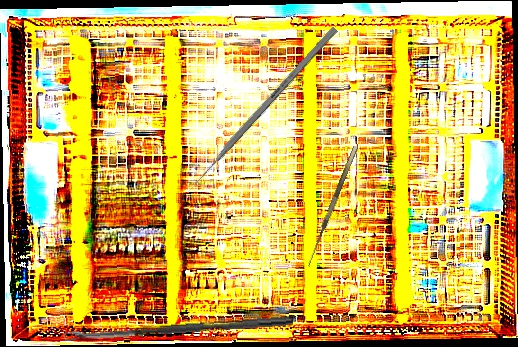Hook Surgical: (305, 145, 365, 270)
Pusher: (185, 25, 338, 195)
Surgical Spoon: (63, 315, 294, 341)
